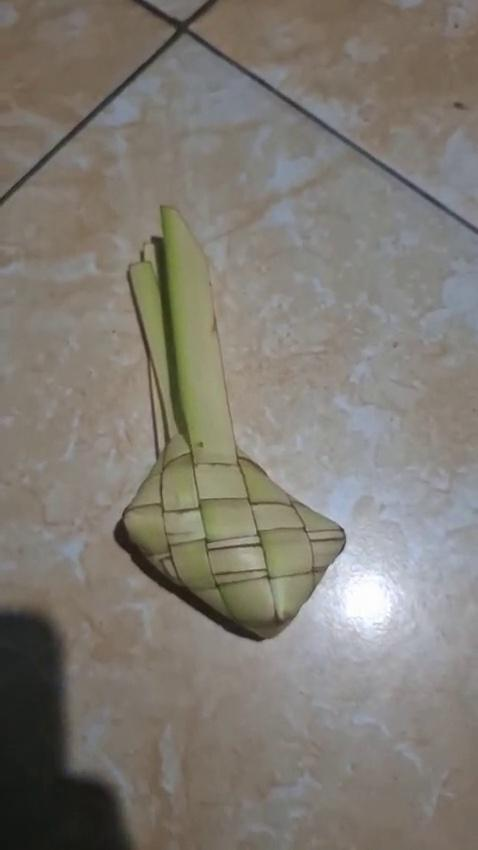Tipat Bantal: (111, 202, 353, 652)
